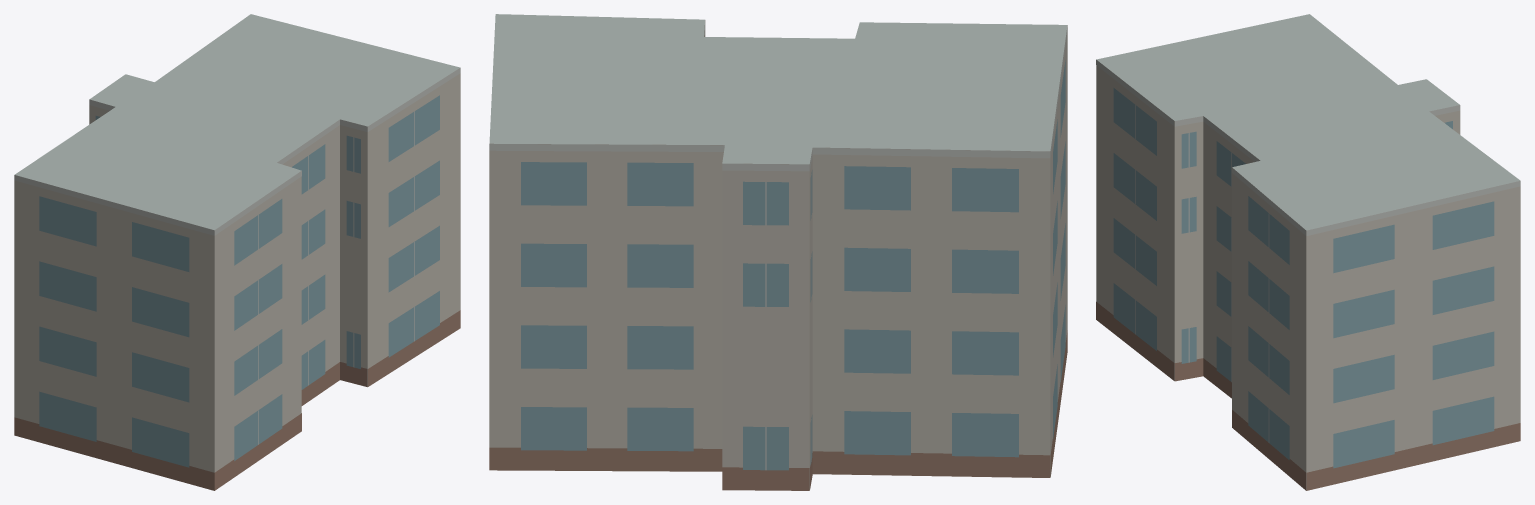
File: survey-upis-32580923.glb
3 views of the same model, side by side, from view 1: azimuth 30°, elevation 25°; view 2: azimuth 150°, elevation 25°; view 3: azimuth 270°, elevation 25° (orthographic). The views are drawn at different scales.
Parts seen in each view (by area): view 1: survey-upis-32580923.tmp; view 2: survey-upis-32580923.tmp; view 3: survey-upis-32580923.tmp.
Boxes of the visible parts, <box> form: survey-upis-32580923.tmp: <box>14,14,460,490</box>; survey-upis-32580923.tmp: <box>489,14,1067,490</box>; survey-upis-32580923.tmp: <box>1096,14,1520,490</box>.
Size of the model in its own units: 20.27 by 11.35 by 16.79.
